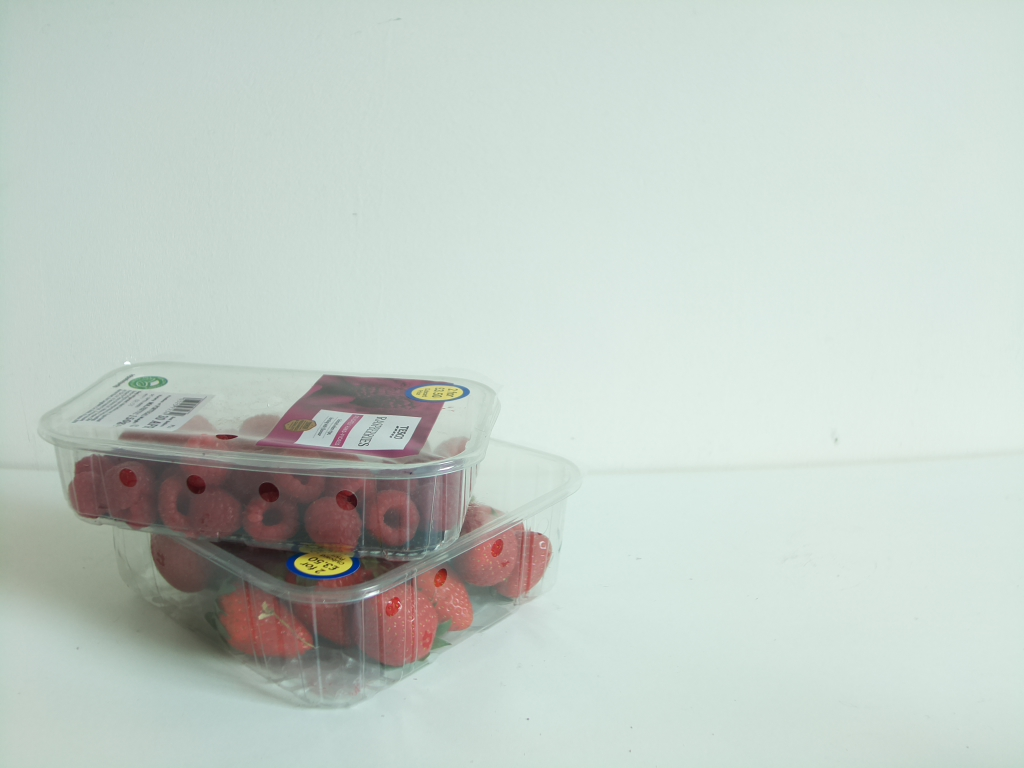soft-fruit: (105, 440, 584, 728), (40, 356, 503, 554)
